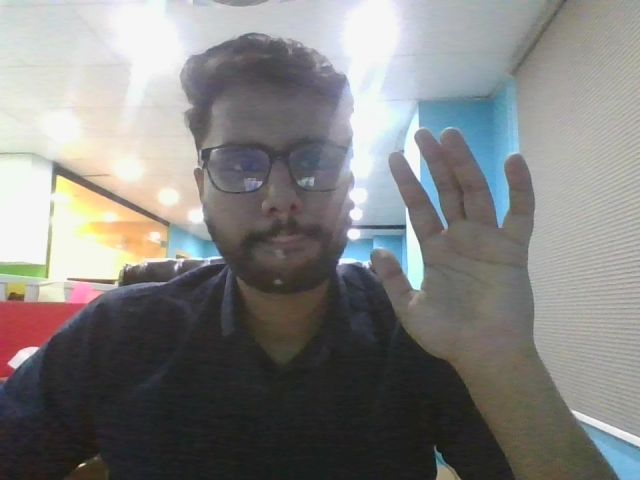hello: (358, 122, 566, 383)
